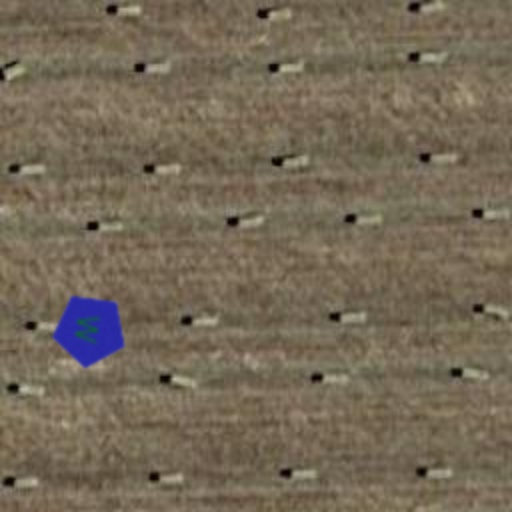pentagon: (46, 286, 134, 374)
